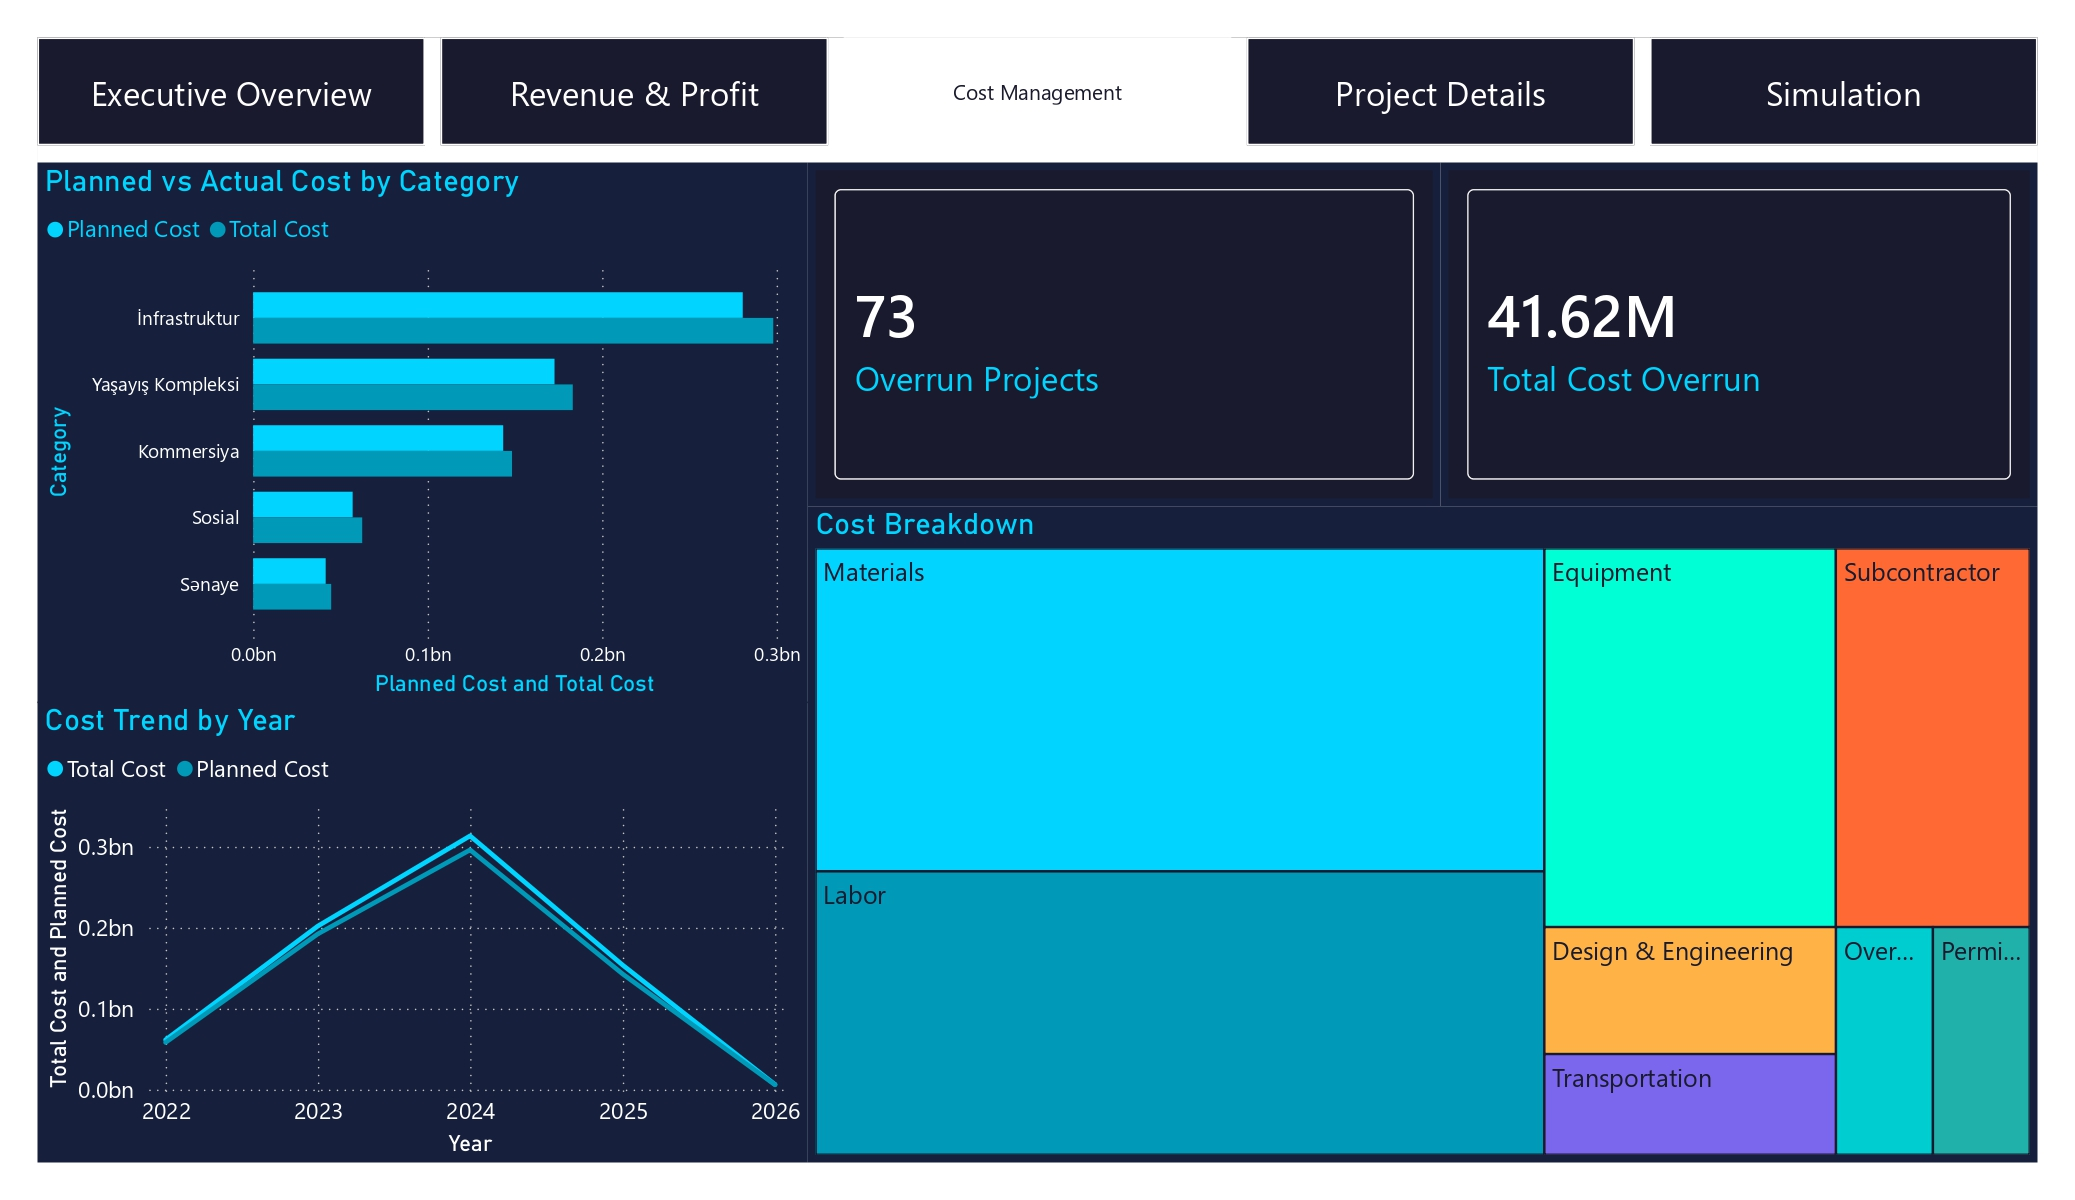

The page's visual inventory and layout, read from the dashboard file:
{"tool":"powerbi","page":{"name":"Cost Management","canvas":[1280,720],"ordinal":2},"visuals":[{"type":"pageNavigator","box":[0,0,1280,68.9],"z":0},{"type":"clusteredBarChart","title":"Planned vs Actual Cost by Category","fields":{"Category":["dim_projects_v2.Category"],"Y":["_Measures.Planned Cost","_Measures.Total Cost"]},"box":[0,80,492.9,345.7],"z":1000},{"type":"lineChart","title":"Cost Trend by Year","fields":{"Category":["fact_financials.Date.Variation.Date Hierarchy.Year"],"Y":["_Measures.Total Cost","_Measures.Planned Cost"]},"box":[0,425,493.3,295],"z":2000},{"type":"treemap","title":"Cost Breakdown","fields":{"Group":["fact_financials.CostCategory"],"Values":["_Measures.Total Cost"]},"box":[493.3,300,786.7,420],"z":3000},{"type":"cardVisual","fields":{"Data":["_Measures.Overrun Projects"]},"box":[493.3,80,405,220],"z":4000},{"type":"cardVisual","fields":{"Data":["_Measures.Total Cost Overrun"]},"box":[898.3,80,381.7,220],"z":5000}]}

Visuals, with their boxes on the page's 1280x720 design canvas (x1, y1, x2, y2). These are canvas units, not pixel positions in the 2075x1200 screenshot, which may show the page scaled, cropped or inside an application window:
pageNavigator: pyautogui.locateOnScreen(0, 0, 1280, 69)
"Planned vs Actual Cost by Category" clusteredBarChart: pyautogui.locateOnScreen(0, 80, 493, 426)
"Cost Trend by Year" lineChart: pyautogui.locateOnScreen(0, 425, 493, 720)
"Cost Breakdown" treemap: pyautogui.locateOnScreen(493, 300, 1280, 720)
cardVisual - _Measures.Overrun Projects: pyautogui.locateOnScreen(493, 80, 898, 300)
cardVisual - _Measures.Total Cost Overrun: pyautogui.locateOnScreen(898, 80, 1280, 300)
